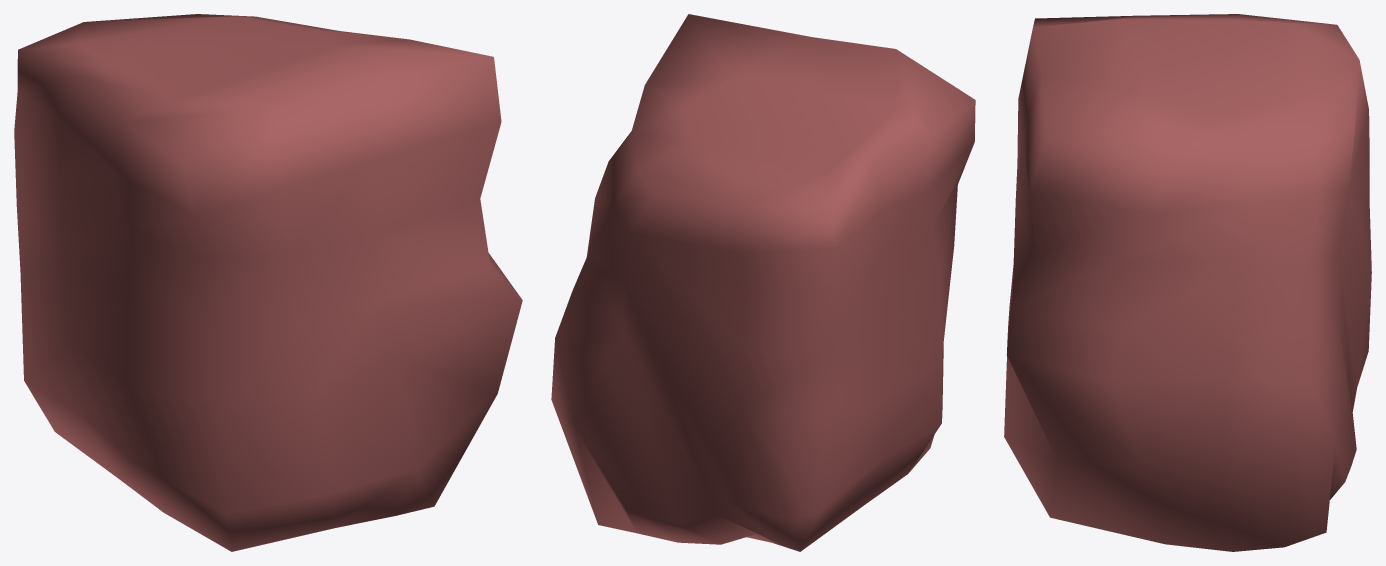
File: SM_cliff01_low.fbx
3 views of the same model, side by side, from view 1: azimuth 30°, elevation 25°; view 2: azimuth 150°, elevation 25°; view 3: azimuth 270°, elevation 25° (orthographic). The views are drawn at different scales.
Visible parts, largest first — view 1: SM_cliff01_low; view 2: SM_cliff01_low; view 3: SM_cliff01_low.
Part boxes in pixels (x1,y1,x2,y2): SM_cliff01_low: [14, 14, 522, 551]; SM_cliff01_low: [551, 14, 975, 551]; SM_cliff01_low: [1004, 14, 1371, 551].
Bounding box in the file's own units: 10.96 × 13.93 × 10.66.
